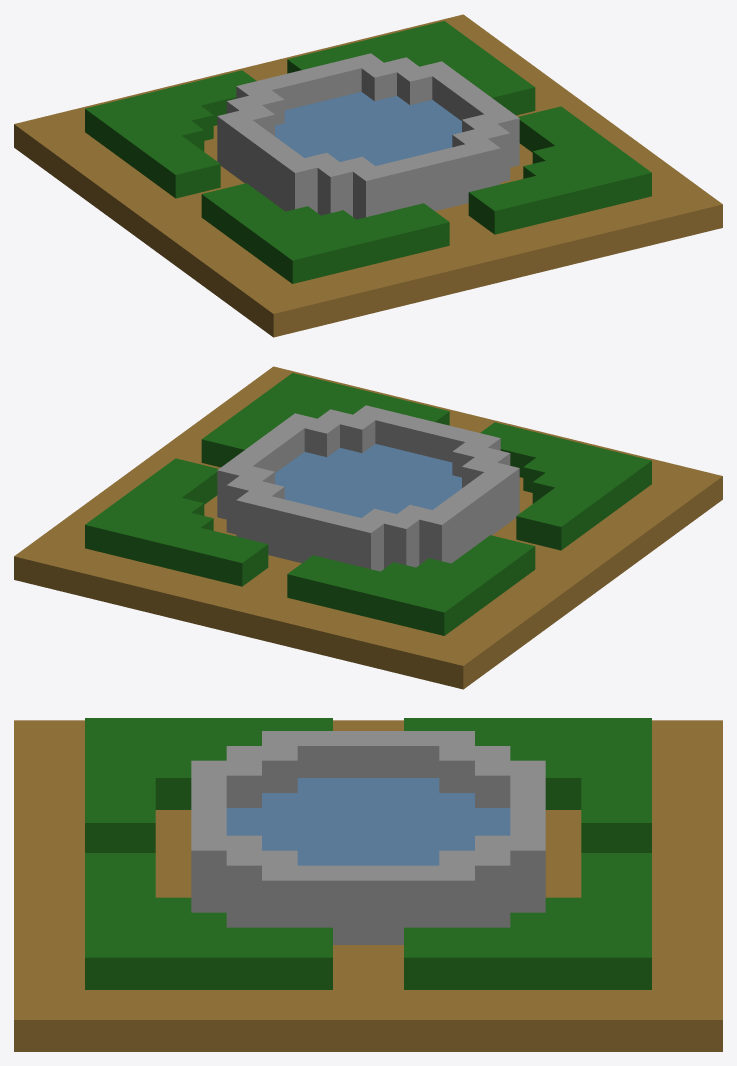
Rendered from pueblo.obj.
3 renders of one model, top to bottom at view 1: azimuth 30°, elevation 25°; view 2: azimuth 150°, elevation 25°; view 3: azimuth 270°, elevation 25°, orthographic. The views are drawn at different scales.
Size of the model in its own units: 2 by 0.3 by 2.
Materials: 1 (1 with a texture image).
